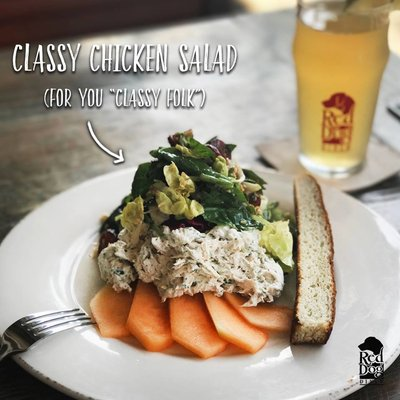burger: (0, 307, 94, 365)
soup: (291, 170, 336, 347)
